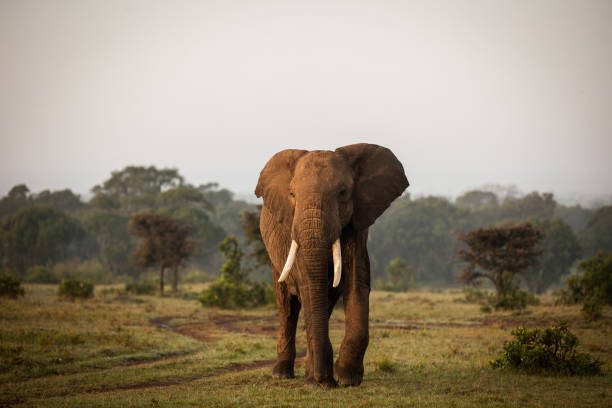africanelephant: (264, 154, 359, 305)
